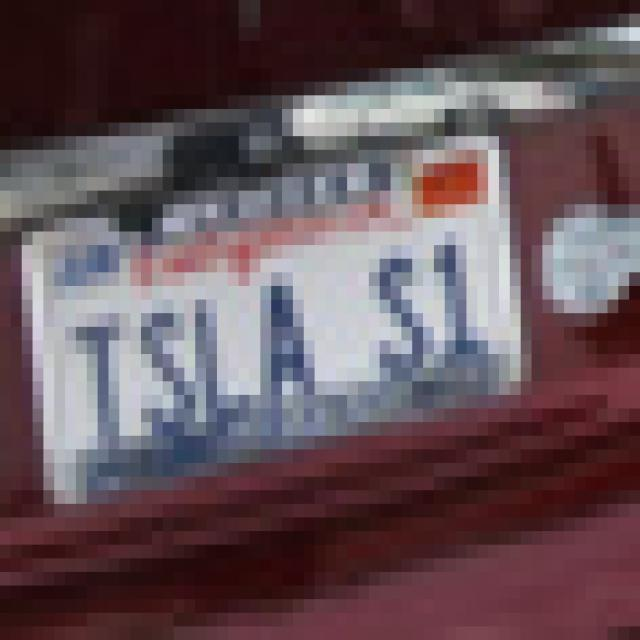1: (422, 225, 505, 381)
A: (252, 257, 328, 421)
L: (189, 276, 261, 429)
S: (363, 236, 435, 396), (131, 292, 196, 450)
T: (69, 304, 129, 461)
